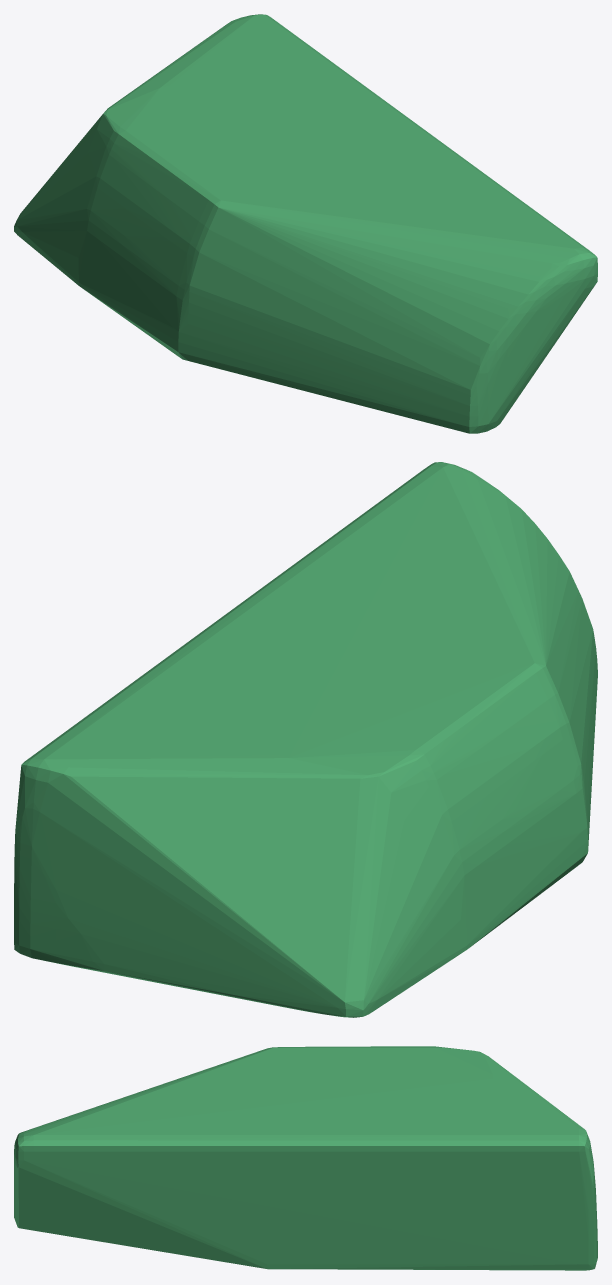
Rendered from right-hip-pitch-0_part_3.obj.
3 views of the same model, one above another, from view 1: azimuth 30°, elevation 25°; view 2: azimuth 150°, elevation 25°; view 3: azimuth 270°, elevation 25° (orthographic). The views are drawn at different scales.
Size of the model in its own units: 0.0663 by 0.0361 by 0.1436.
